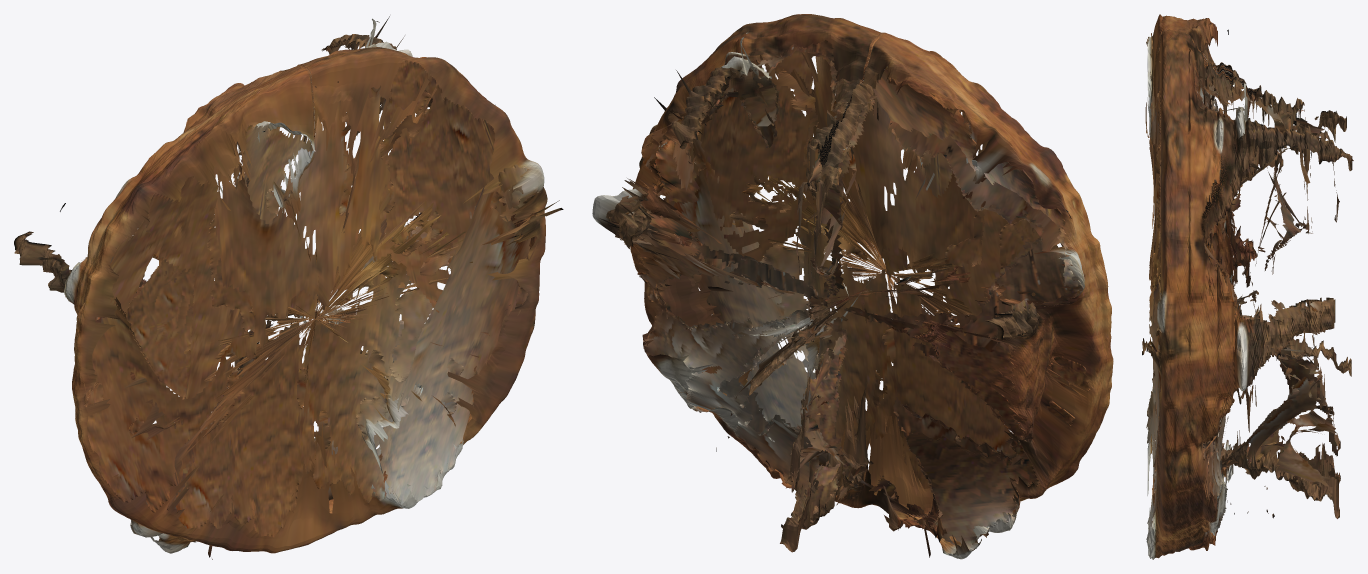
The model's file is mesh_inpaint.glb.
The picture shows the model from 3 angles, left to right: view 1: azimuth 30°, elevation 25°; view 2: azimuth 150°, elevation 25°; view 3: azimuth 270°, elevation 25°; orthographic projection. The views are drawn at different scales.
Parts seen in each view (by area): view 1: fill, ipn; view 2: fill, ipn; view 3: ipn, fill.
Boxes of the visible parts, <box> form: fill: <box>20,38,538,542</box>; ipn: <box>14,16,563,559</box>; fill: <box>606,39,1090,549</box>; ipn: <box>592,14,1113,559</box>; ipn: <box>1142,14,1352,559</box>; fill: <box>1145,33,1353,555</box>.
Bounding box in the file's own units: 1.91 × 1.86 × 0.6884.
Materials: 2 (1 with a texture image).
